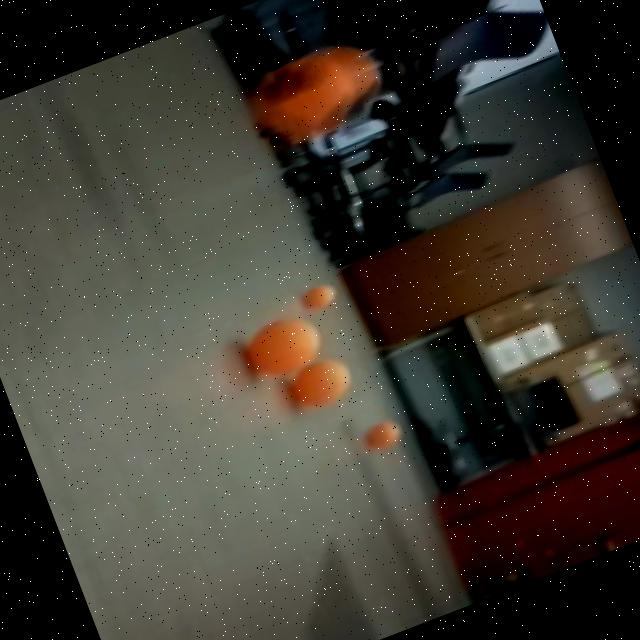ping-pong-ball: (231, 24, 402, 162), (234, 306, 330, 388), (284, 352, 364, 422), (352, 411, 416, 462), (293, 272, 347, 322)
